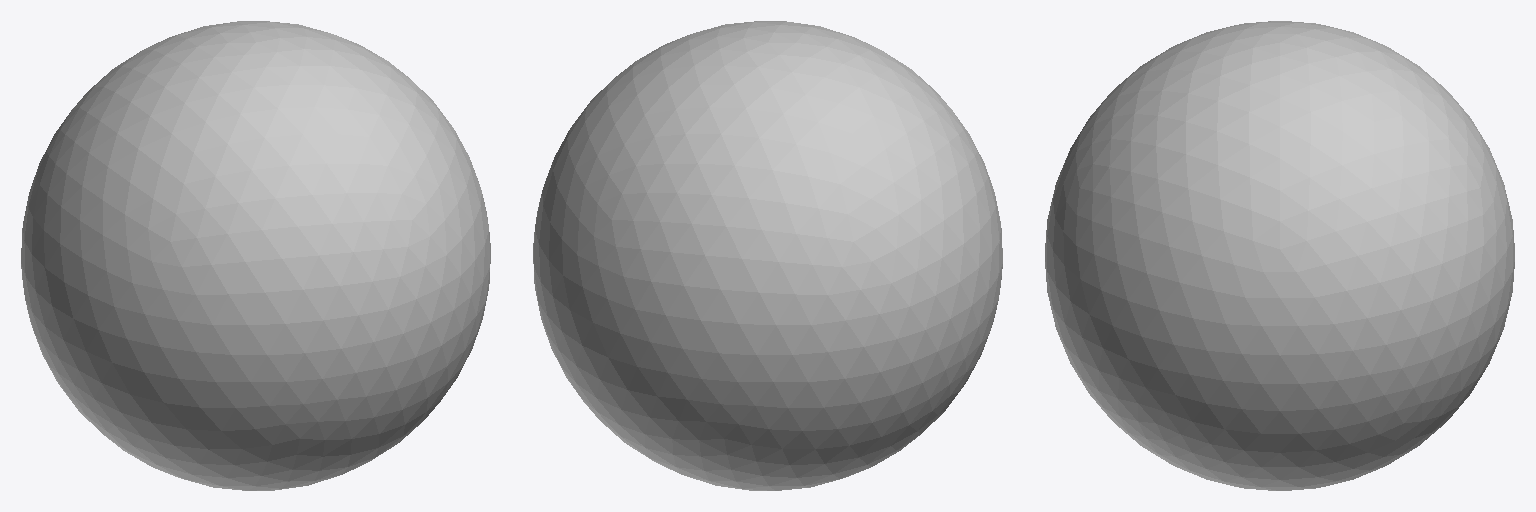
Rendered from GlassSphere.obj.
3 views of the same model, side by side, from view 1: azimuth 30°, elevation 25°; view 2: azimuth 150°, elevation 25°; view 3: azimuth 270°, elevation 25° (orthographic).
Parts seen in each view (by area): view 1: Icosphere; view 2: Icosphere; view 3: Icosphere.
Boxes of the visible parts, box(x1,y1,x2,y2) form: Icosphere: box(21, 21, 490, 490); Icosphere: box(533, 21, 1002, 490); Icosphere: box(1045, 21, 1514, 490).
Bounding box in the file's own units: 1 × 1 × 1.